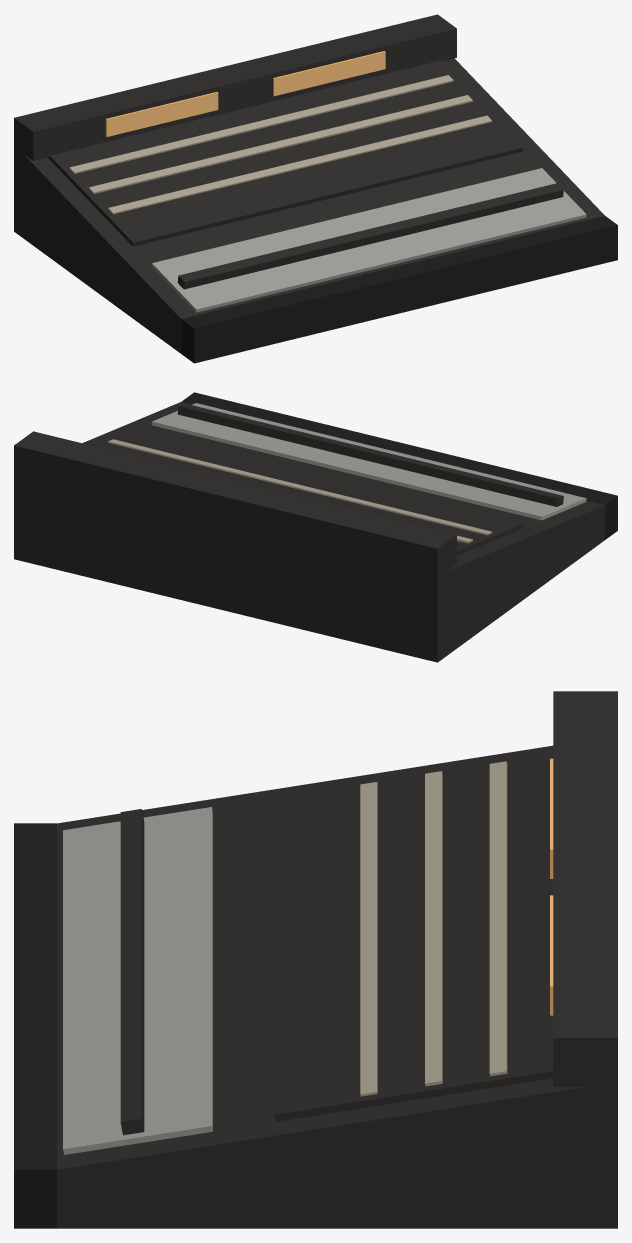
Rendered from mixing-desk-12ch.glb.
3 renders of one model, top to bottom at view 1: azimuth 30°, elevation 25°; view 2: azimuth 150°, elevation 25°; view 3: azimuth 270°, elevation 25°, orthographic. The views are drawn at different scales.
Visible parts, largest first — view 1: plastic-dark, rubber, brushed, plastic-light, emissive-warm; view 2: plastic-dark, brushed, rubber, plastic-light; view 3: plastic-dark, brushed, rubber, plastic-light, emissive-warm.
Boxes of the visible parts, bbox=[...] form: plastic-dark: bbox=[14, 14, 604, 353]; rubber: bbox=[181, 216, 617, 363]; brushed: bbox=[151, 168, 586, 312]; plastic-light: bbox=[69, 75, 492, 214]; emissive-warm: bbox=[105, 51, 385, 136]; plastic-dark: bbox=[14, 402, 604, 662]; brushed: bbox=[151, 403, 586, 520]; rubber: bbox=[181, 392, 617, 539]; plastic-light: bbox=[108, 439, 492, 543]; plastic-dark: bbox=[57, 691, 617, 1228]; brushed: bbox=[63, 807, 212, 1154]; rubber: bbox=[14, 823, 56, 1228]; plastic-light: bbox=[360, 761, 507, 1096]; emissive-warm: bbox=[550, 758, 553, 1015].
Bounding box in the file's own units: 0.76 × 0.195 × 0.56.
